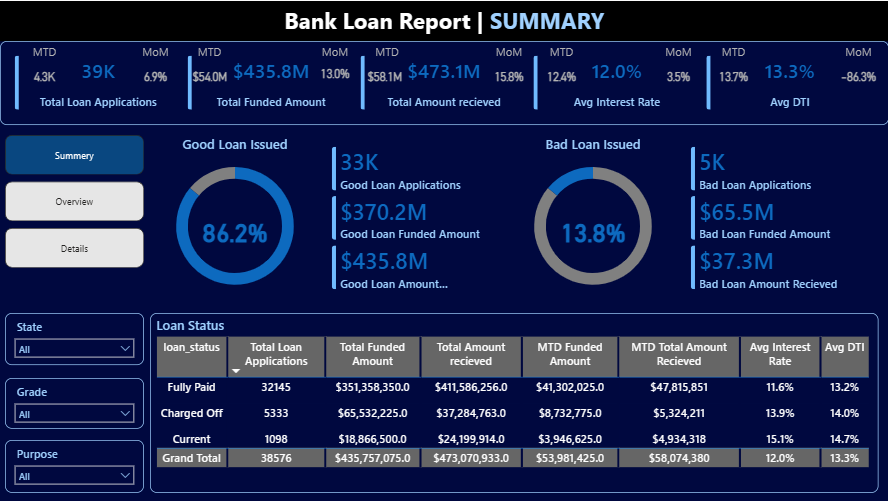

What the dashboard file says about the page in this screenshot:
{"tool":"powerbi","page":{"name":"Summery","canvas":[1280,720],"ordinal":0},"visuals":[{"type":"textbox","box":[0,0,1280.2,57.6],"z":0},{"type":"donutChart","title":"Good Loan Issued","fields":{"Category":["public financial_loan.Good vs Bad Loan"],"Y":["_Measures.Total Loan Applications"]},"box":[216,193,244.8,241.9],"z":1000},{"type":"card","fields":{"Values":["_Measures.Good LOan %"]},"box":[282.2,302.4,112.3,57.6],"z":2000},{"type":"cardVisual","fields":{"Data":["_Measures.Good Loan Applications","_Measures.Good Loan Funded Amount","_Measures.Good Loan Amount Recieved"]},"box":[460.8,193,269.3,241.9],"z":3000},{"type":"donutChart","title":"Bad Loan Issued","fields":{"Category":["public financial_loan.Good vs Bad Loan"],"Y":["_Measures.Total Loan Applications"]},"box":[730.1,193,247.7,241.9],"z":4000},{"type":"cardVisual","fields":{"Data":["_Measures.Bad Loan Applications","_Measures.Bad Loan Funded Amount","_Measures.Bad Loan Amount Recieved"]},"box":[977.8,193,288,241.9],"z":5000},{"type":"card","fields":{"Values":["_Measures.Bad Loan %"]},"box":[797.8,302.4,112.3,57.6],"z":6000},{"type":"tableEx","title":"Loan Status","fields":{"Values":["public financial_loan.loan_status","_Measures.Total Loan Applications","_Measures.Total Funded Amount","_Measures.Total Amount recieved","_Measures.MTD Funded Amount","_Measures.MTD Total Amount Recieved","_Measures.Avg Interest Rate","_Measures.Avg DTI"]},"box":[216.1,448.7,1048.8,258.8],"z":7000},{"type":"slicer","fields":{"Values":["public financial_loan.address_state"]},"box":[7.2,449.3,200.2,74.9],"z":8000},{"type":"slicer","fields":{"Values":["public financial_loan.purpose"]},"box":[7.2,632.2,200.2,76.3],"z":9000},{"type":"slicer","fields":{"Values":["public financial_loan.grade"]},"box":[7.2,542.9,200.2,73.4],"z":10000},{"type":"pageNavigator","box":[7.2,193,200.2,191.5],"z":11000},{"type":"cardVisual","fields":{"Data":["_Measures.Total Loan Applications","_Measures.Total Funded Amount","_Measures.Total Amount recieved","_Measures.Avg Interest Rate","_Measures.Avg DTI"]},"box":[0,57.6,1280.2,121],"z":12000},{"type":"textbox","box":[20.2,57.6,87.8,34.6],"z":13000},{"type":"card","fields":{"Values":["_Measures.MTD Loan Applications"]},"box":[20.2,92.2,87.8,34.6],"z":14000},{"type":"textbox","box":[257.8,57.6,87.8,34.6],"z":15000},{"type":"textbox","box":[517,57.6,80.6,34.6],"z":16000},{"type":"textbox","box":[764.6,57.6,87.8,34.6],"z":17000},{"type":"textbox","box":[1012.3,57.6,87.8,34.6],"z":18000},{"type":"card","fields":{"Values":["_Measures.MTD Funded Amount"]},"box":[262.1,92.2,80.6,34.6],"z":19000},{"type":"card","fields":{"Values":["_Measures.MTD Total Amount Recieved"]},"box":[517,92.2,74.9,34.6],"z":20000},{"type":"card","fields":{"Values":["_Measures.MTD Avg Int Rate"]},"box":[764.6,92.2,87.8,34.6],"z":21000},{"type":"card","fields":{"Values":["_Measures.MTD Avg DTI"]},"box":[1012.3,92.2,87.8,34.6],"z":22000},{"type":"textbox","box":[1192.3,57.6,87.8,34.6],"z":23000},{"type":"textbox","box":[933.1,57.6,87.8,34.6],"z":24000},{"type":"textbox","box":[692.6,57.6,80.6,34.6],"z":25000},{"type":"textbox","box":[447.8,57.6,69.1,34.6],"z":26000},{"type":"textbox","box":[185.8,57.6,76.3,34.6],"z":27000},{"type":"card","fields":{"Values":["_Measures.MoM Avg Int Rate"]},"box":[933.1,92.2,87.8,34.6],"z":29000},{"type":"card","fields":{"Values":["_Measures.MoM Total Amount Recieved"]},"box":[697,92.2,72,34.6],"z":30000},{"type":"card","fields":{"Values":["_Measures.MoM Total Funded Amount"]},"box":[447.8,87.8,69.1,34.6],"z":31000},{"type":"card","fields":{"Values":["_Measures.MoM Loan Applications"]},"box":[185.8,92.2,76.3,34.6],"z":32000},{"type":"card","fields":{"Values":["_Measures.MoM Avg DTI"]},"box":[1192.3,92.2,87.8,34.6],"z":32001}]}

Visuals, with their boxes in screenshot pixels (x1, y1, x2, y2), scaled from the page's 1280x720 canvas onto the 888x501 screenshot:
textbox: <region>0, 0, 887, 40</region>
"Good Loan Issued" donutChart: <region>150, 134, 320, 303</region>
card - _Measures.Good LOan %: <region>196, 210, 274, 250</region>
cardVisual - _Measures.Good Loan Applications x _Measures.Good Loan Funded Amount: <region>320, 134, 507, 303</region>
"Bad Loan Issued" donutChart: <region>507, 134, 678, 303</region>
cardVisual - _Measures.Bad Loan Applications x _Measures.Bad Loan Funded Amount: <region>678, 134, 878, 303</region>
card - _Measures.Bad Loan %: <region>553, 210, 631, 250</region>
"Loan Status" tableEx: <region>150, 312, 878, 492</region>
slicer - public financial_loan.address_state: <region>5, 313, 144, 365</region>
slicer - public financial_loan.purpose: <region>5, 440, 144, 493</region>
slicer - public financial_loan.grade: <region>5, 378, 144, 429</region>
pageNavigator: <region>5, 134, 144, 268</region>
cardVisual - _Measures.Total Loan Applications x _Measures.Total Funded Amount: <region>0, 40, 887, 124</region>
textbox: <region>14, 40, 75, 64</region>
card - _Measures.MTD Loan Applications: <region>14, 64, 75, 88</region>
textbox: <region>179, 40, 240, 64</region>
textbox: <region>359, 40, 415, 64</region>
textbox: <region>530, 40, 591, 64</region>
textbox: <region>702, 40, 763, 64</region>
card - _Measures.MTD Funded Amount: <region>182, 64, 238, 88</region>
card - _Measures.MTD Total Amount Recieved: <region>359, 64, 411, 88</region>
card - _Measures.MTD Avg Int Rate: <region>530, 64, 591, 88</region>
card - _Measures.MTD Avg DTI: <region>702, 64, 763, 88</region>
textbox: <region>827, 40, 887, 64</region>
textbox: <region>647, 40, 708, 64</region>
textbox: <region>480, 40, 536, 64</region>
textbox: <region>311, 40, 359, 64</region>
textbox: <region>129, 40, 182, 64</region>
card - _Measures.MoM Avg Int Rate: <region>647, 64, 708, 88</region>
card - _Measures.MoM Total Amount Recieved: <region>484, 64, 533, 88</region>
card - _Measures.MoM Total Funded Amount: <region>311, 61, 359, 85</region>
card - _Measures.MoM Loan Applications: <region>129, 64, 182, 88</region>
card - _Measures.MoM Avg DTI: <region>827, 64, 887, 88</region>
